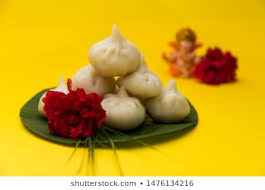modak: (84, 26, 143, 77), (98, 84, 152, 129), (146, 79, 194, 123), (121, 59, 170, 100)
